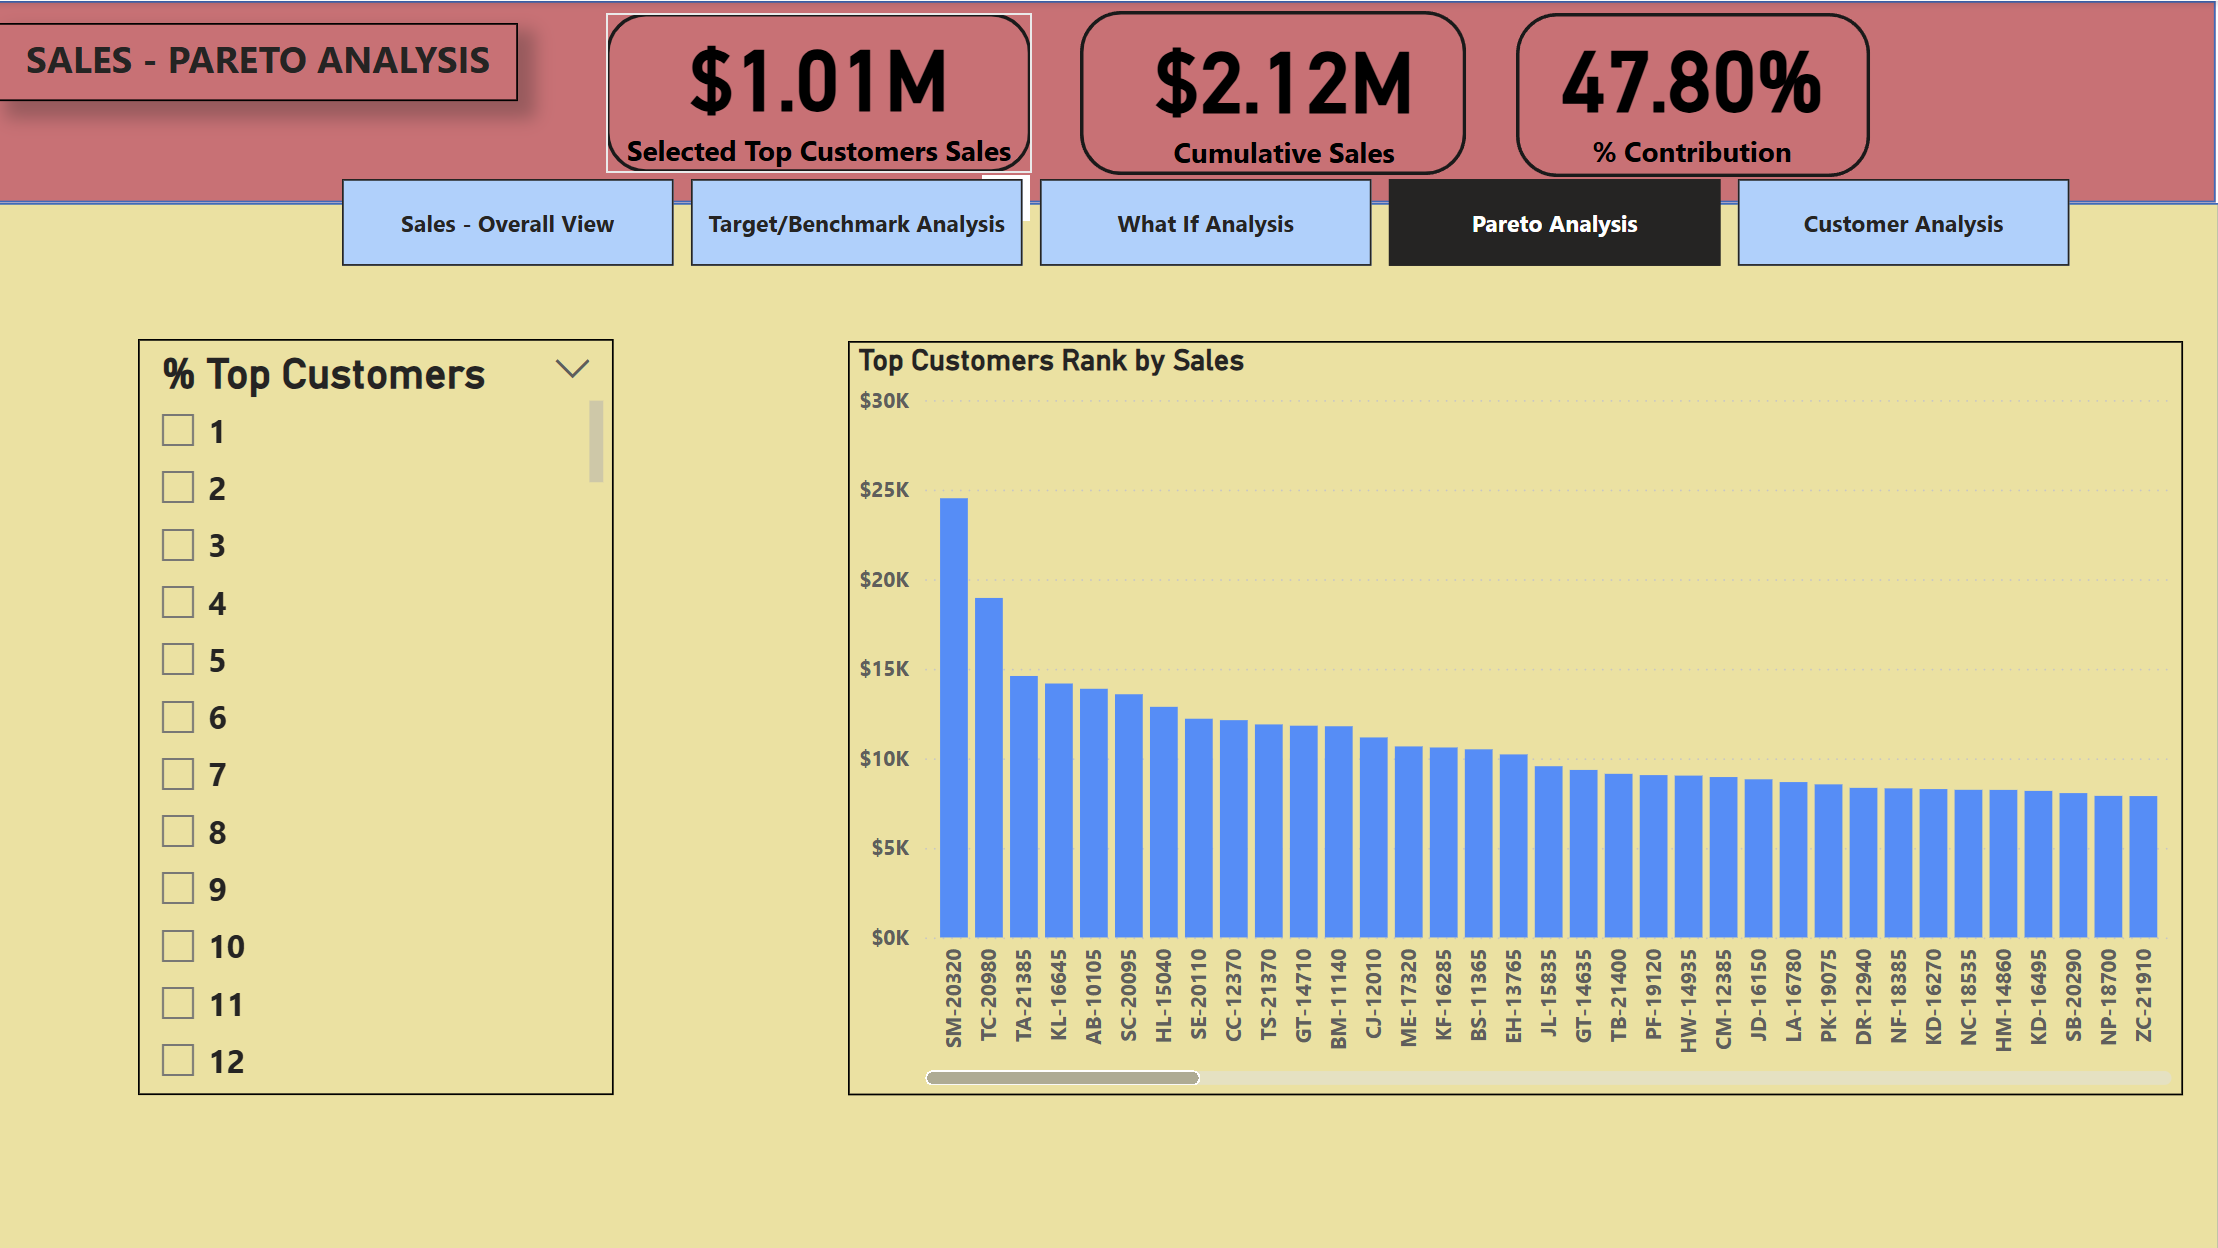

The dashboard page shown, as its layout file describes it:
{"tool":"powerbi","page":{"name":"Pareto Analysis","canvas":[1280,720],"ordinal":3},"visuals":[{"type":"shape","box":[0,0,1280,116.2],"z":0},{"type":"shape","box":[0,116.4,1279.9,603.6],"z":1000},{"type":"slicer","fields":{"Values":["% Top Customers.% Top Customers"]},"box":[80.6,194.7,274.2,435.5],"z":2000},{"type":"lineClusteredColumnComboChart","title":"Top Customers Rank by Sales","fields":{"Category":["Customer.Customer ID"],"Y":["Measure Table.Selected Top Customers Sales"]},"box":[489.6,196.3,768.8,434.7],"z":3000},{"type":"card","fields":{"Values":["Measure Table.Selected Top Customers Sales"]},"box":[354.8,0,236.2,101.4],"z":4000},{"type":"card","fields":{"Values":["Measure Table.Cumulative Sales"]},"box":[623.2,4.6,235,94.5],"z":5000},{"type":"card","fields":{"Values":["Measure Table.% Contribution"]},"box":[858.2,0,235,102.5],"z":6000},{"type":"shape","box":[350.2,6.9,245.4,92.2],"z":7000},{"type":"shape","box":[623.2,5.8,222.3,94.5],"z":8000},{"type":"shape","box":[874.4,6.9,203.9,94.5],"z":9000},{"type":"pageNavigator","box":[198.1,102.5,999.9,50.7],"z":10000},{"type":"textbox","box":[0,12.7,299.5,44.9],"z":11000}]}

Visuals, with their boxes in screenshot pixels (x1, y1, x2, y2), scaled from the page's 1280x720 canvas onto the 2218x1248 screenshot:
shape: 0:0:2217:201
shape: 0:202:2217:1247
slicer - % Top Customers.% Top Customers: 140:337:615:1092
"Top Customers Rank by Sales" lineClusteredColumnComboChart: 848:340:2181:1094
card - Measure Table.Selected Top Customers Sales: 615:0:1024:176
card - Measure Table.Cumulative Sales: 1080:8:1487:172
card - Measure Table.% Contribution: 1487:0:1894:178
shape: 607:12:1032:172
shape: 1080:10:1465:174
shape: 1515:12:1868:176
pageNavigator: 343:178:2076:266
textbox: 0:22:519:100
